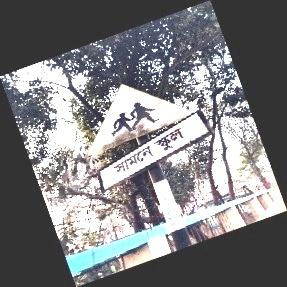School-in-front: (86, 84, 218, 195)
